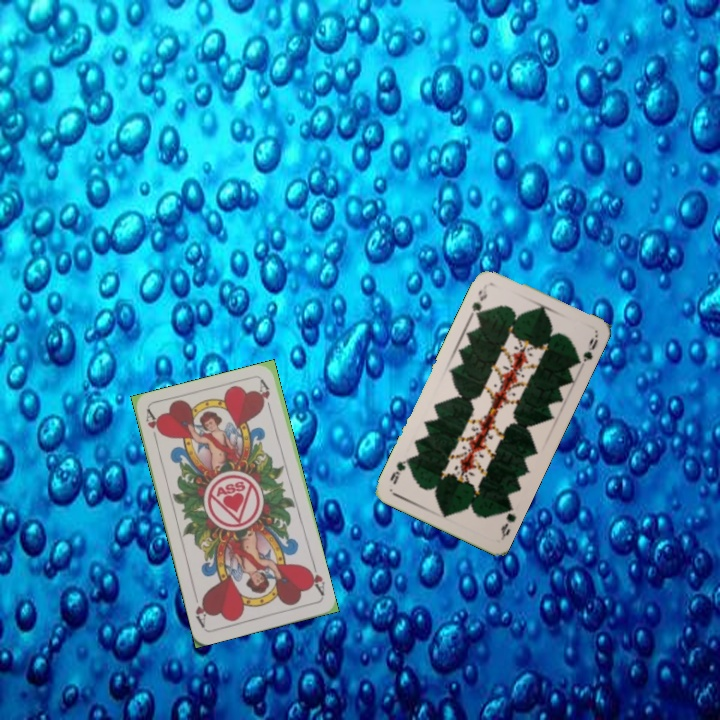G9: (497, 500, 519, 542), (467, 285, 490, 320)
HA: (303, 559, 327, 598), (142, 407, 164, 447)
